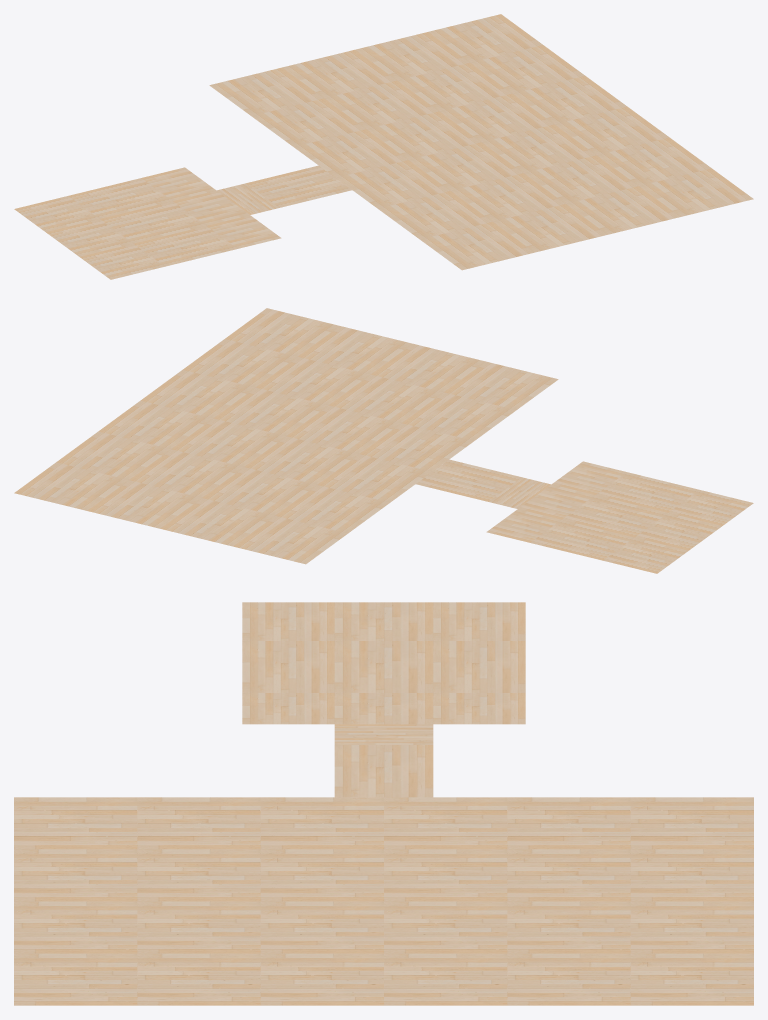
The model's file is housefloor.fbx.
The picture shows the model from 3 angles, top to bottom: view 1: azimuth 30°, elevation 25°; view 2: azimuth 150°, elevation 25°; view 3: azimuth 270°, elevation 25°; orthographic projection. The views are drawn at different scales.
Visible parts, largest first — view 1: housefloor; view 2: housefloor; view 3: housefloor.
Part boxes in pixels (x1=…): housefloor: x1=14, y1=14, x2=753, y2=279; housefloor: x1=14, y1=308, x2=753, y2=573; housefloor: x1=14, y1=602, x2=753, y2=1005.
Size of the model in its own units: 38.71 by 1.84e-15 by 30.
